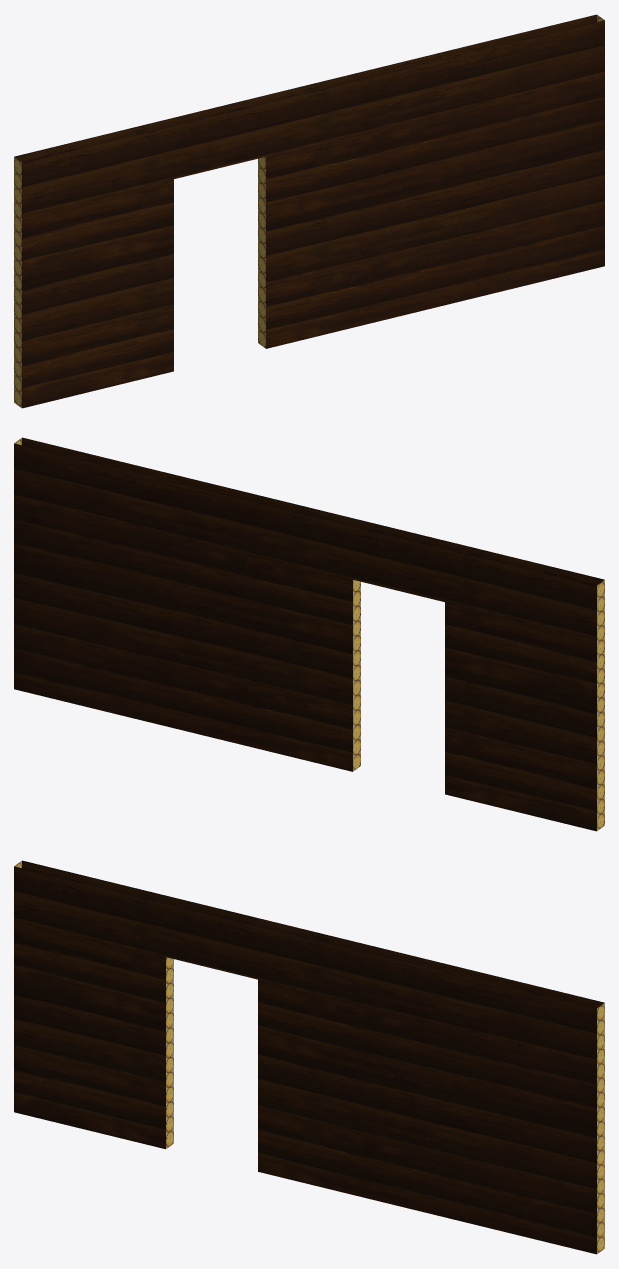
Rendered from Inner wall7.fbx.
The picture shows the model from 3 angles, top to bottom: view 1: azimuth 30°, elevation 25°; view 2: azimuth 150°, elevation 25°; view 3: azimuth 330°, elevation 25°; orthographic projection.
Visible parts, largest first — view 1: Inner7; view 2: Inner7; view 3: Inner7.
Part boxes in pixels (box(x1,y1,x2,y2)): Inner7: box(14, 14, 604, 408); Inner7: box(14, 437, 604, 831); Inner7: box(14, 860, 604, 1254).
Size of the model in its own units: 7.12 by 2.87 by 0.1702.
